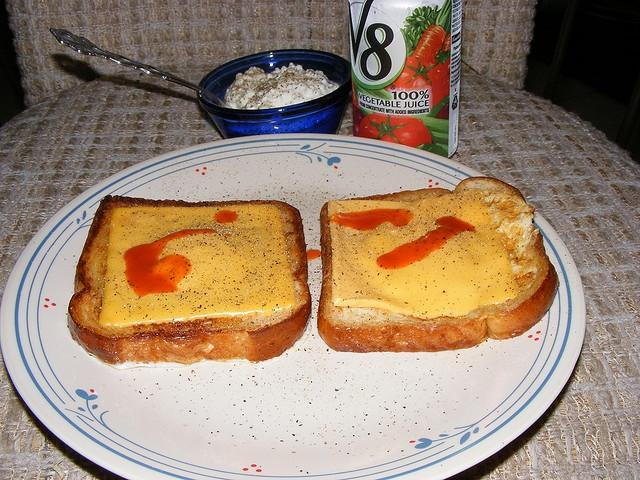carrot: (411, 0, 452, 58), (442, 34, 452, 52)
tomato: (384, 56, 449, 110), (358, 112, 432, 147)
